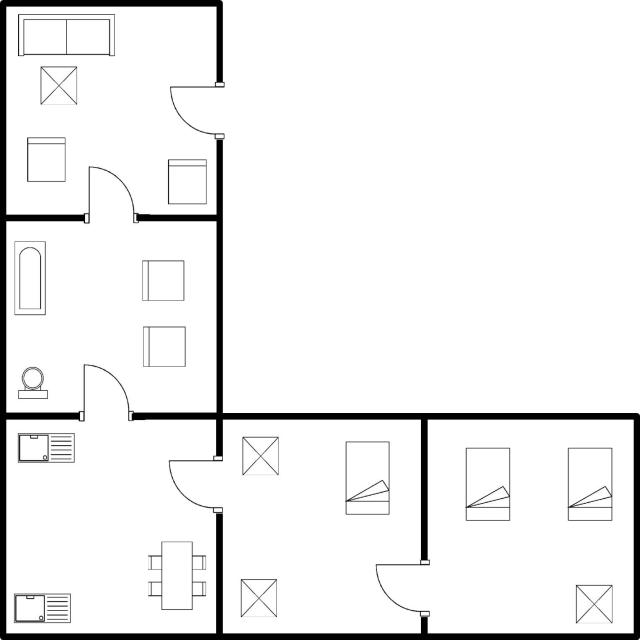bed: (562, 443, 616, 527), (339, 437, 394, 519), (461, 443, 515, 525)
coffee_table: (235, 432, 282, 478), (236, 574, 282, 620), (572, 579, 616, 626), (37, 64, 81, 108)
dining_table: (141, 537, 209, 613)
large_sink: (15, 362, 51, 401)
large_sofa: (14, 10, 118, 60)
sink: (14, 430, 80, 469), (11, 590, 74, 625)
small_sofa: (136, 255, 187, 308), (136, 322, 190, 370), (164, 155, 210, 209), (23, 134, 68, 187)
tub: (10, 238, 50, 318)
